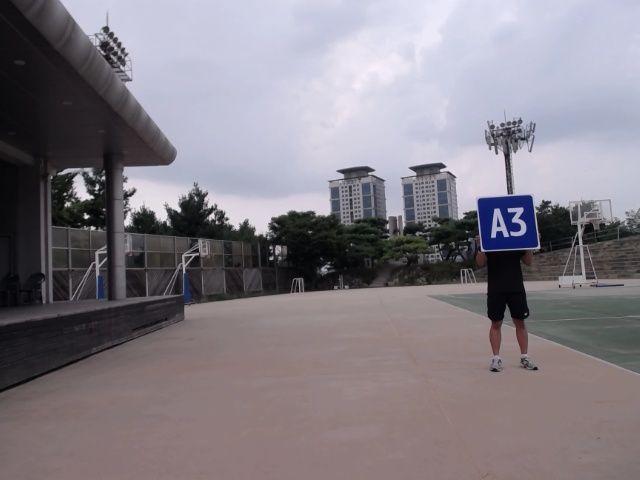delivery_a3: (476, 194, 540, 251)
